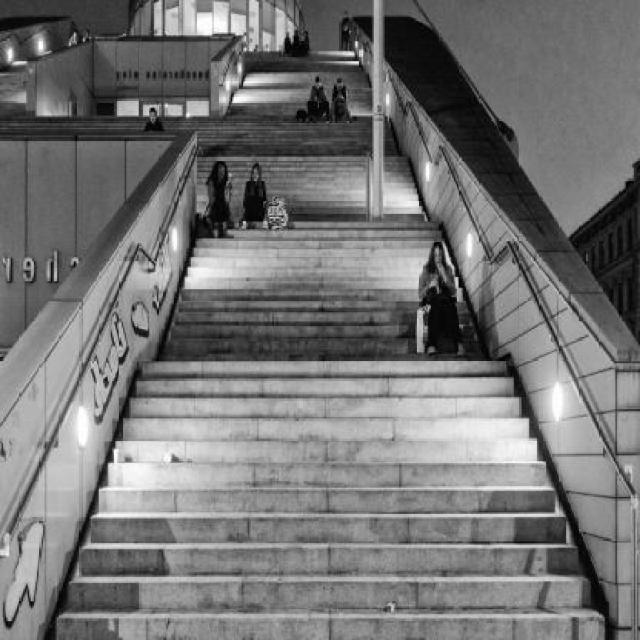stair: (1, 47, 605, 640)
